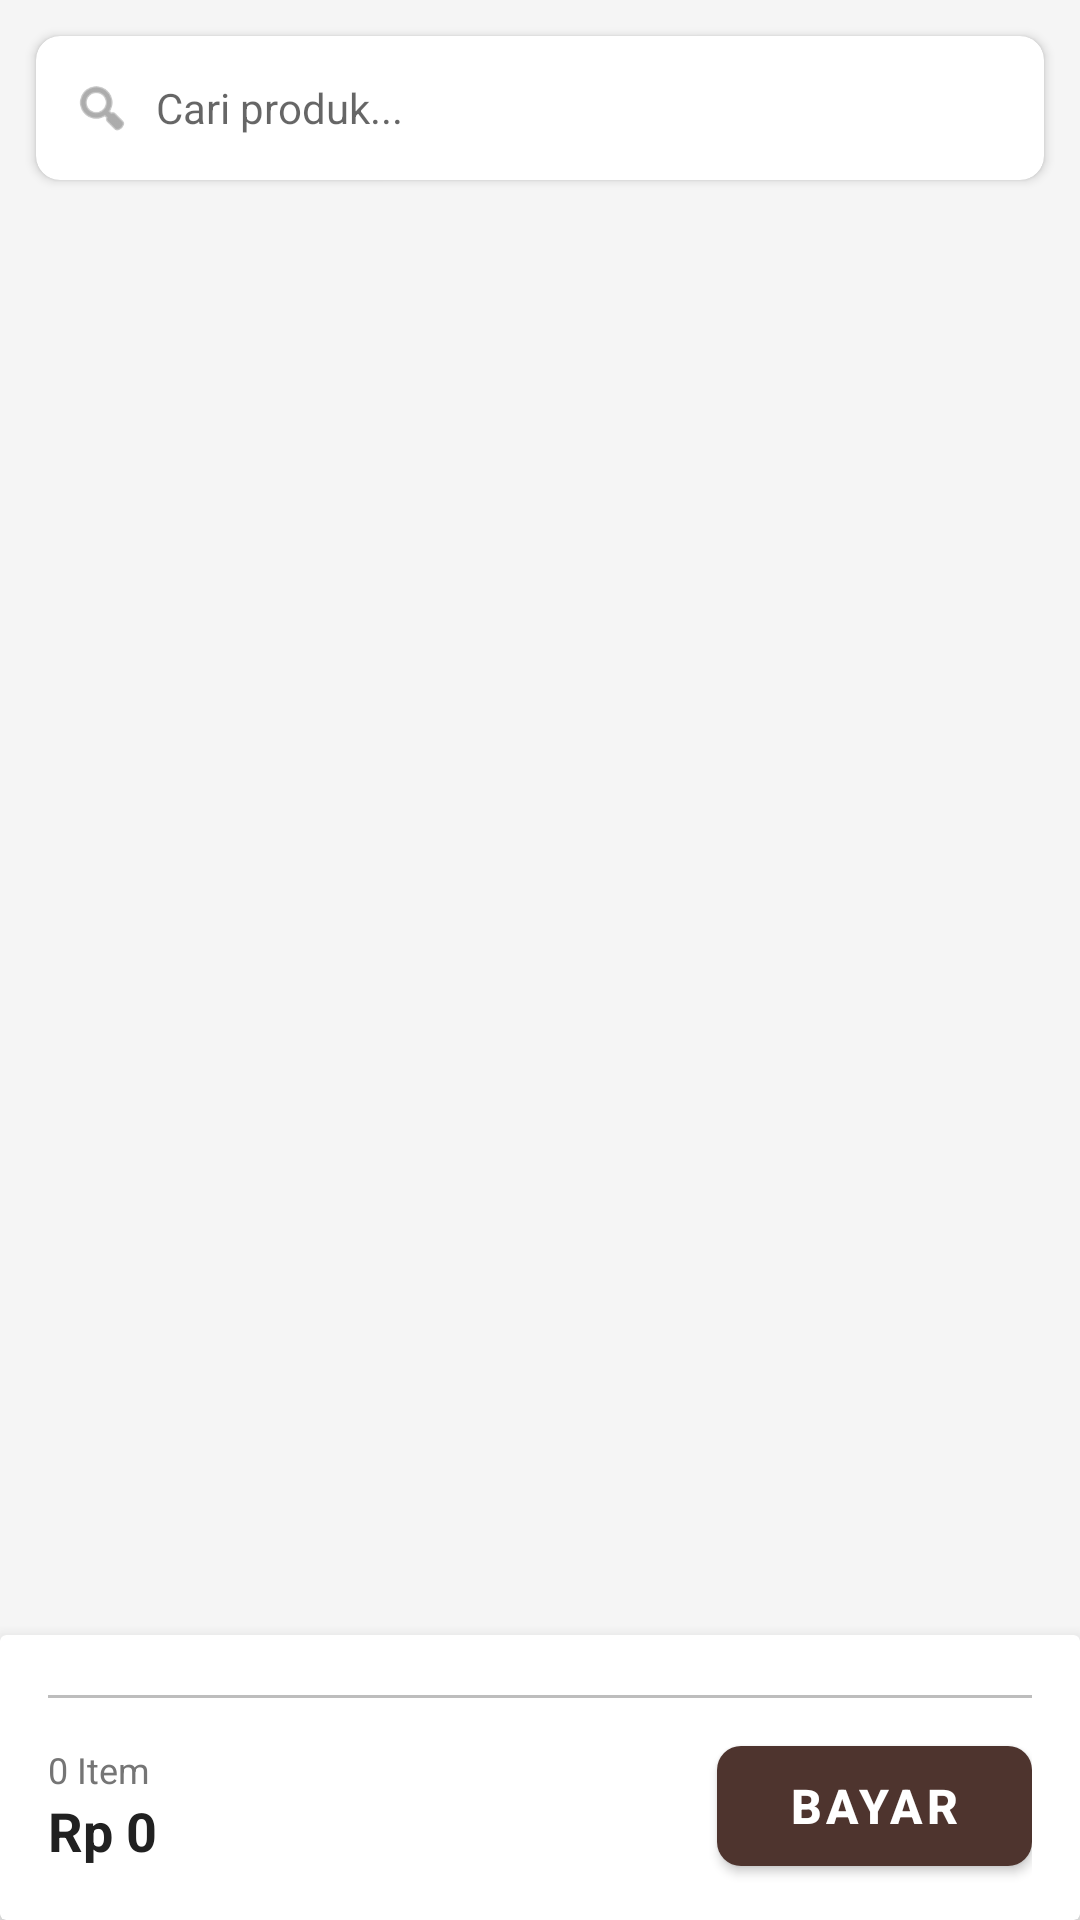

Named icons in this screenshot (1080 x 1920) and their centers, (x,y):
search: (102,108)
